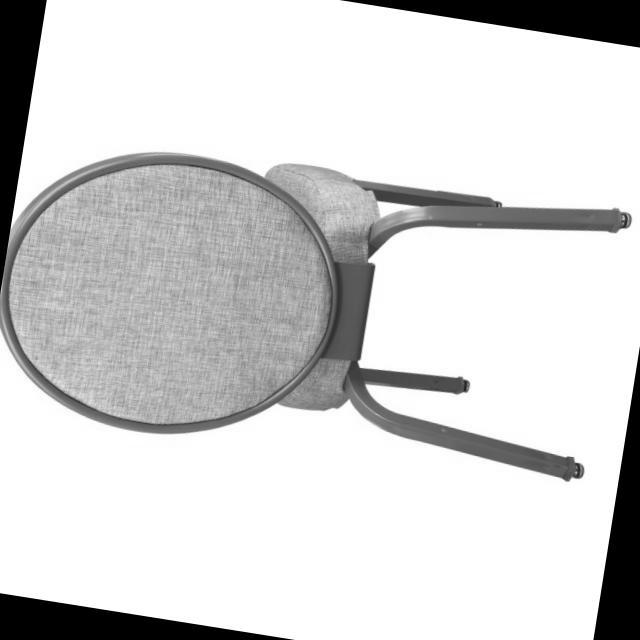chair: (0, 104, 635, 506)
